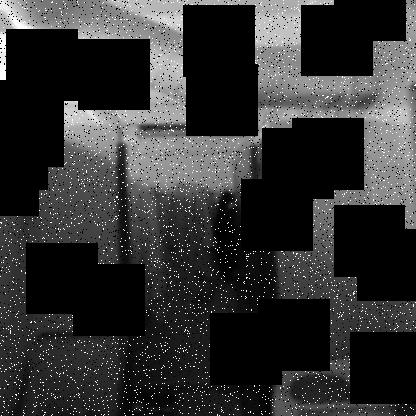Porte: (112, 134, 280, 416)
